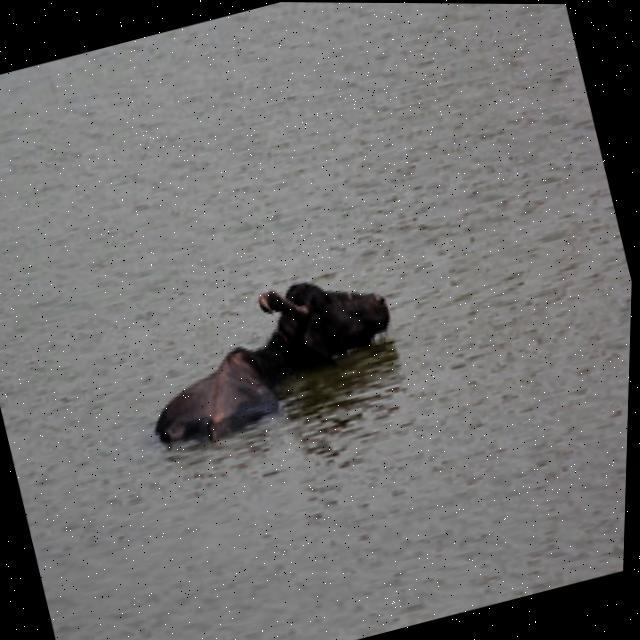Buffalo: (121, 250, 414, 459)
